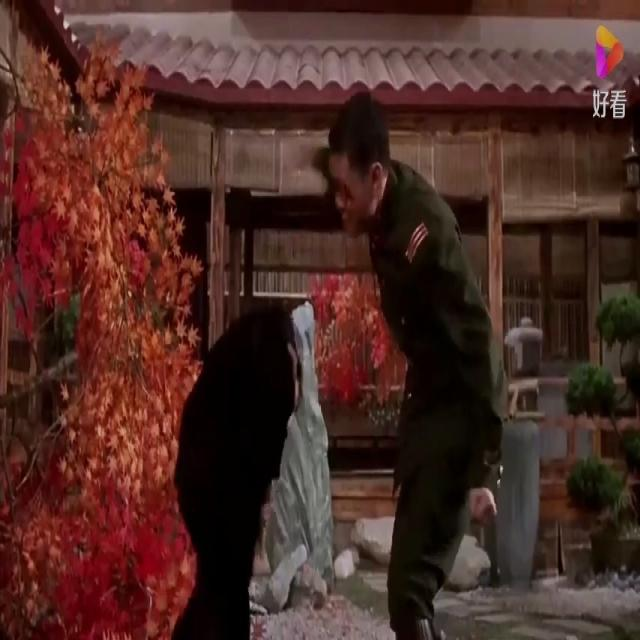fight: (167, 80, 514, 639)
